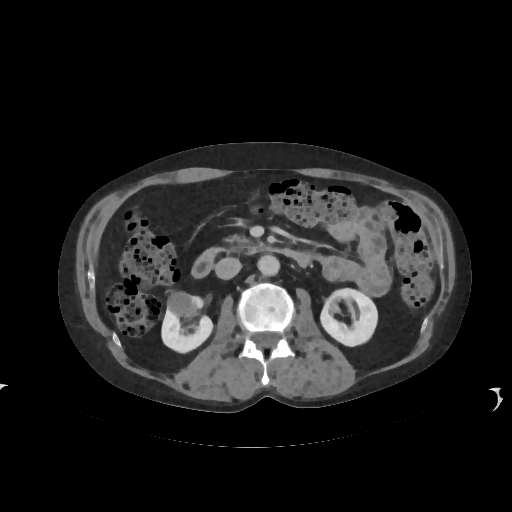Lesion: (160, 290, 195, 324)
